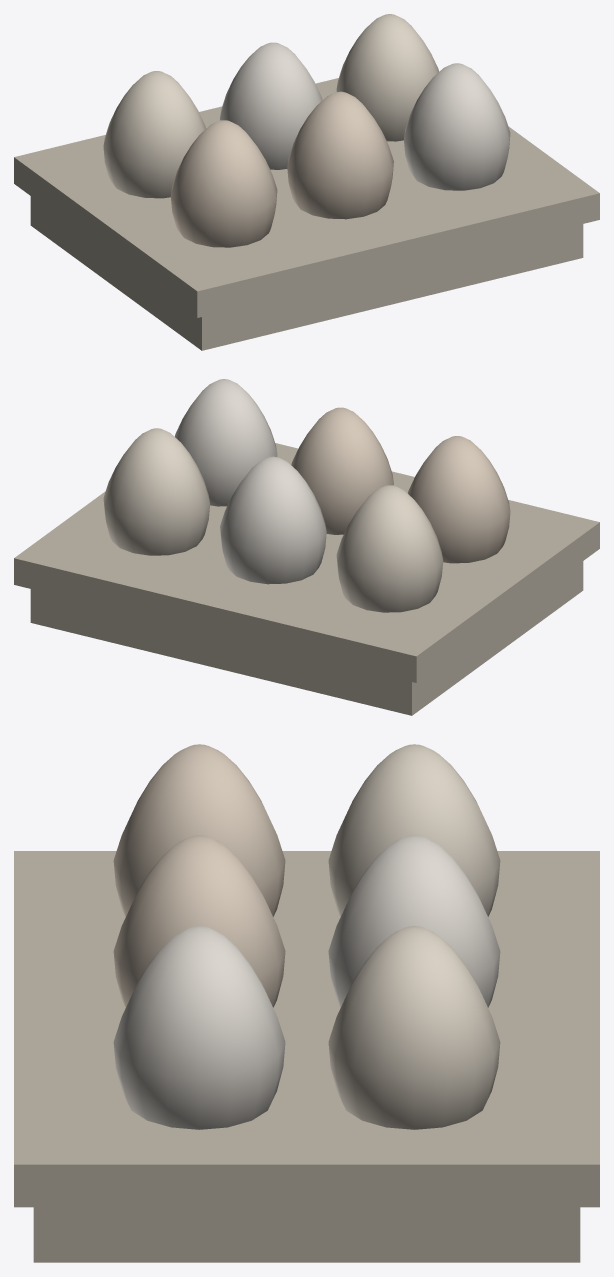
Rendered from cubeta_huevos.glb.
3 renders of one model, top to bottom at view 1: azimuth 30°, elevation 25°; view 2: azimuth 150°, elevation 25°; view 3: azimuth 270°, elevation 25°, orthographic. The views are drawn at different scales.
Parts seen in each view (by area): view 1: CubetaHuevos; view 2: CubetaHuevos; view 3: CubetaHuevos.
Boxes of the visible parts, x1,y1,x2,y2 form: CubetaHuevos: [14, 14, 599, 350]; CubetaHuevos: [14, 379, 599, 715]; CubetaHuevos: [14, 744, 599, 1262].
Size of the model in its own units: 1.9 by 0.78 by 1.5.
